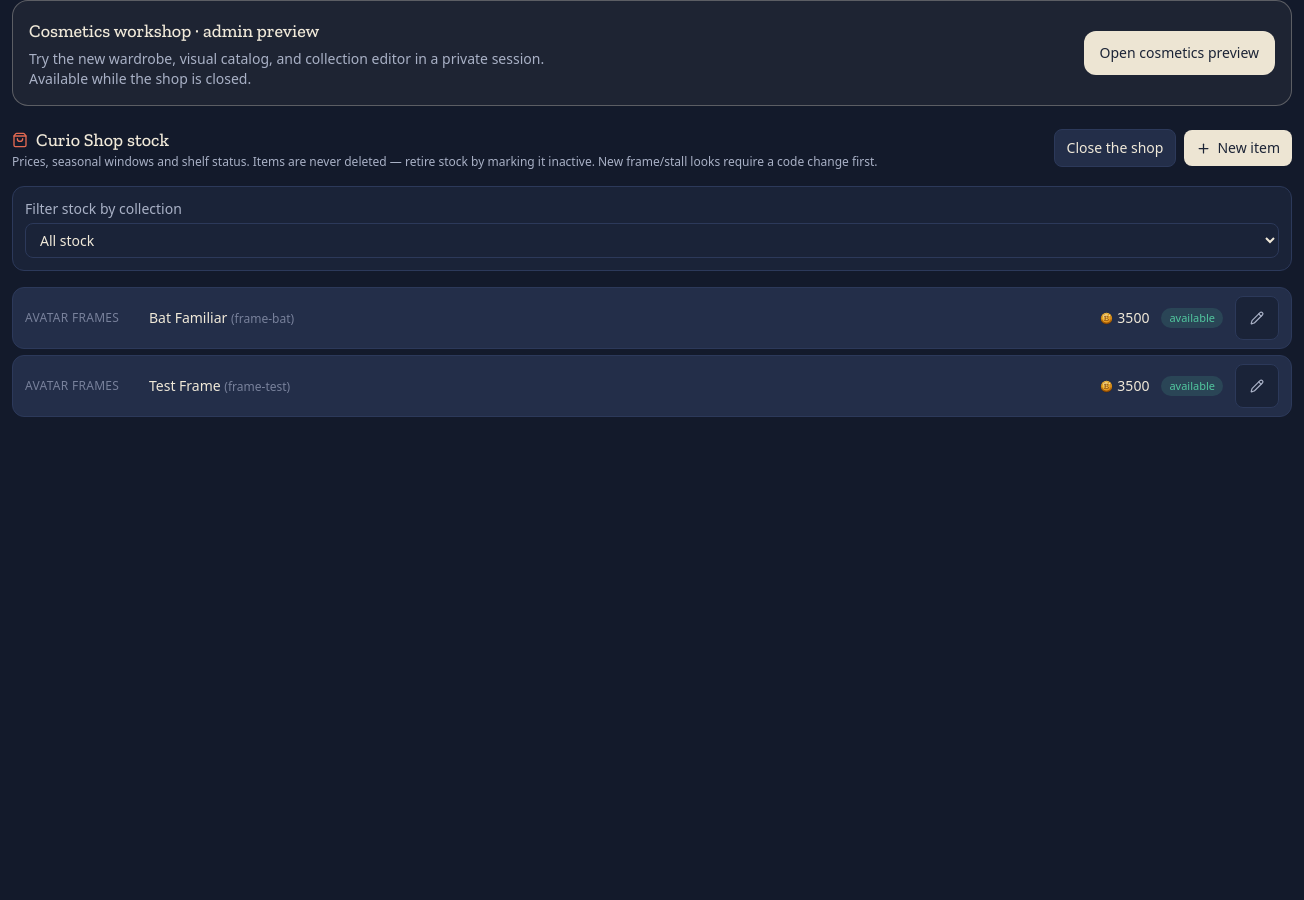
stock editor navigation › names each row's edit button after its item
This screenshot has width=1304, height=900.
Step 1. Click the button named "Edit Bat Familiar" → (1257, 318), box left=1235, top=296, right=1279, bottom=340
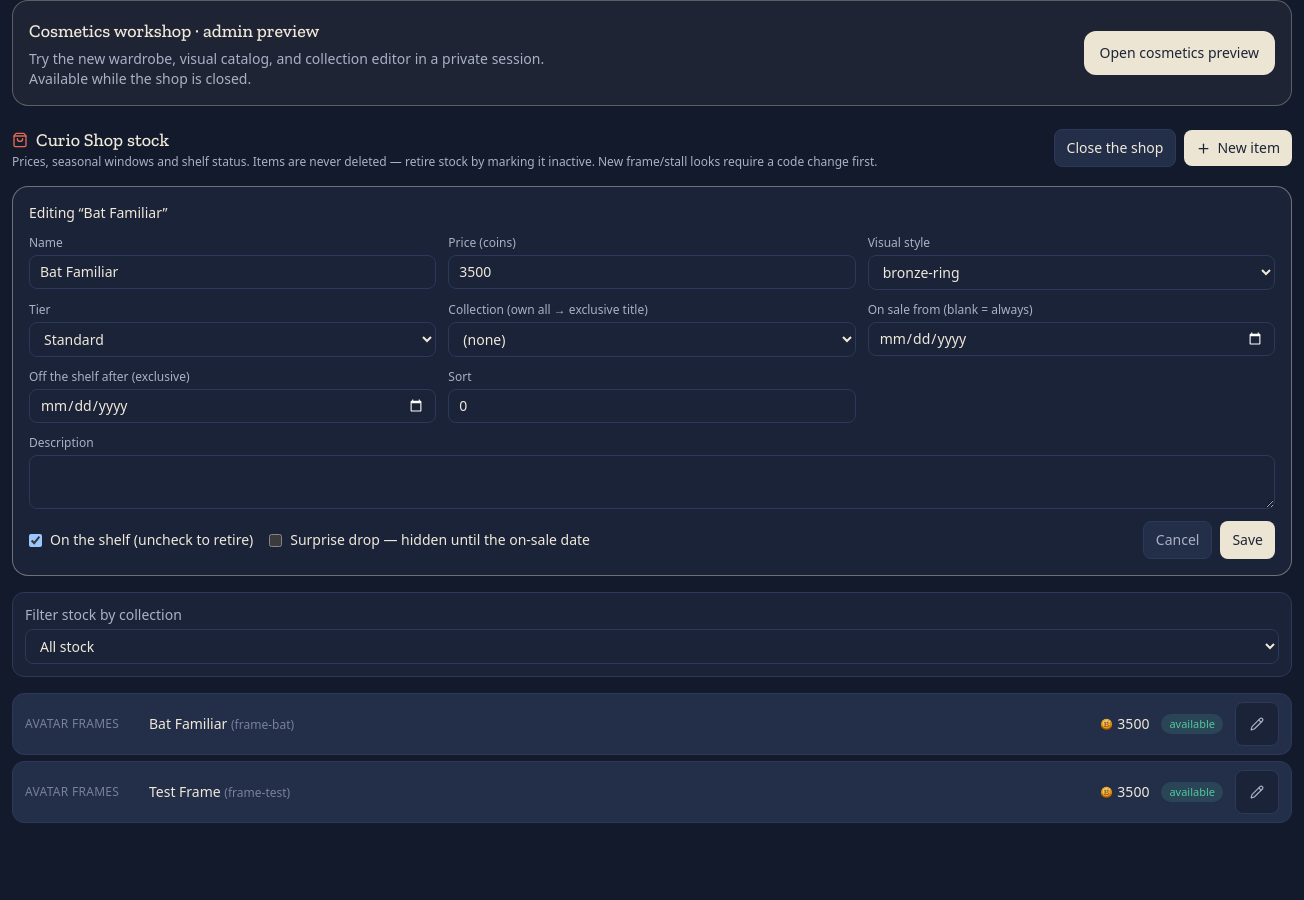
Result: the text "Editing “Bat Familiar”" is shown at left=29, top=203, right=168, bottom=222
